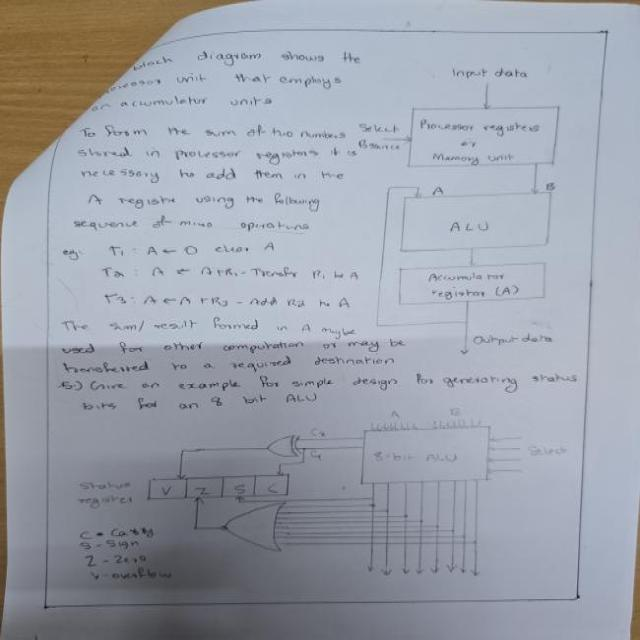Figure Detection - v3 Dataset Version2: (49, 412, 576, 588), (341, 51, 588, 360)
